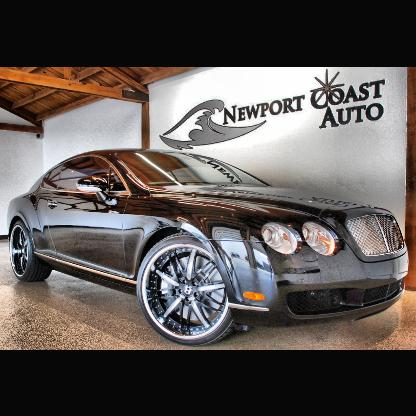Bentley Continental GT Coupe 2007: (9, 150, 410, 348)
